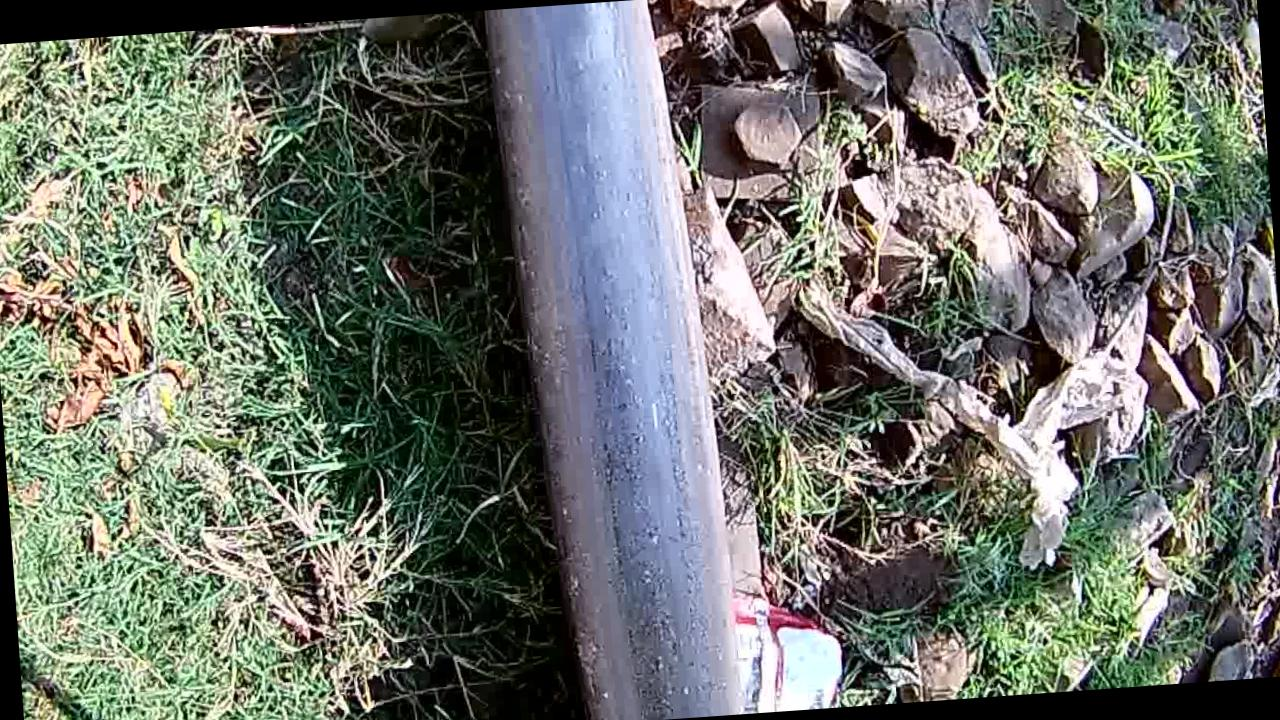bolt_missing: (500, 3, 721, 720)
